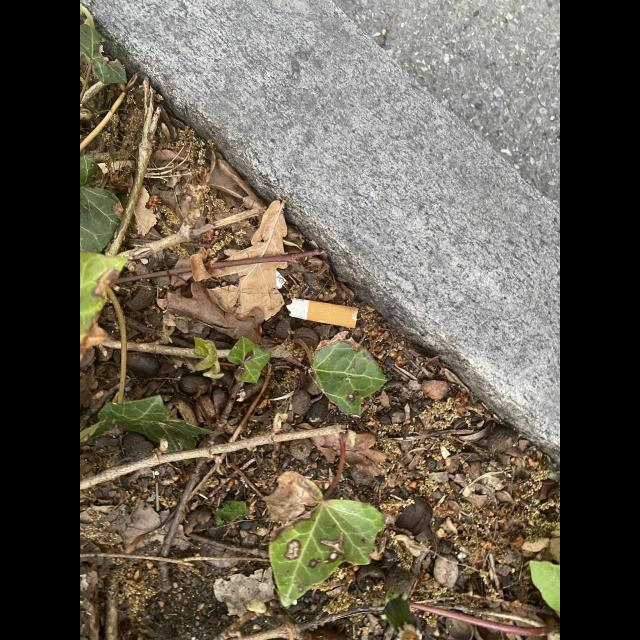cigarette: (286, 298, 358, 328)
